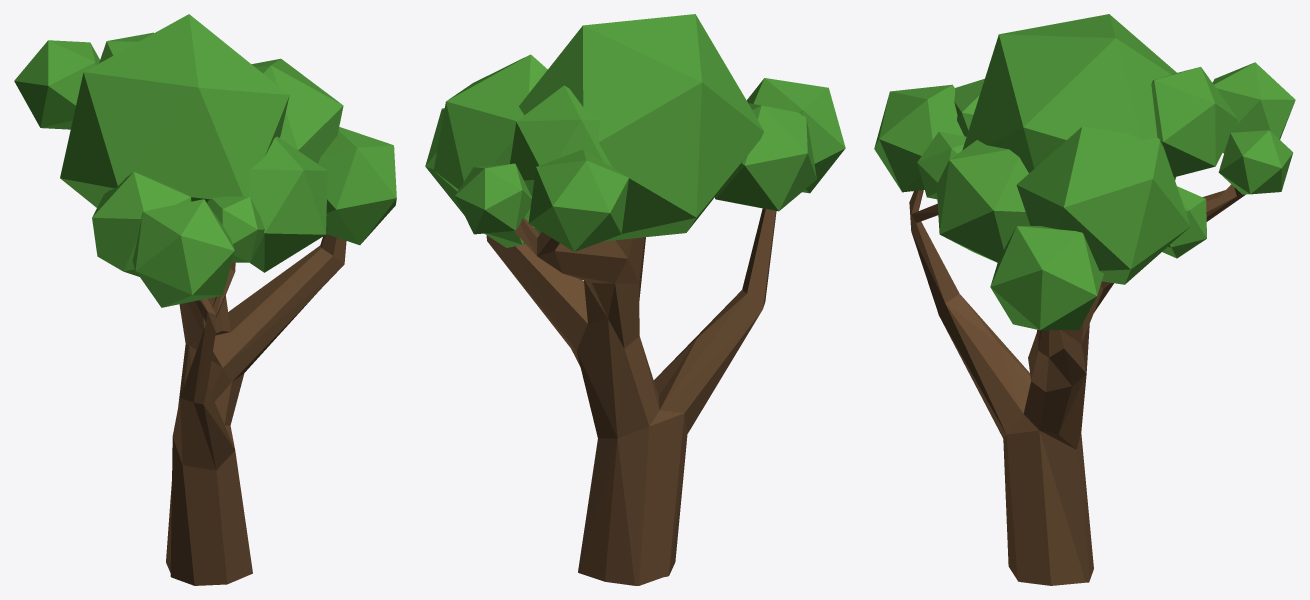
The model's file is tree.gltf.
The picture shows the model from 3 angles, left to right: view 1: azimuth 30°, elevation 25°; view 2: azimuth 150°, elevation 25°; view 3: azimuth 270°, elevation 25°; orthographic projection. The views are drawn at different scales.
Visible parts, largest first — view 1: Icosphere, Vert; view 2: Icosphere, Vert; view 3: Icosphere, Vert.
Part boxes in pixels (x1,y1,x2,y2): Icosphere: (14, 14, 396, 307); Vert: (166, 234, 346, 585); Icosphere: (425, 14, 845, 251); Vert: (486, 208, 776, 585); Icosphere: (874, 14, 1295, 330); Vert: (909, 184, 1245, 585).
Size of the model in its own units: 4.49 by 7.01 by 5.
